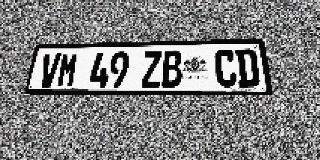4: (89, 52, 111, 87)
9: (108, 52, 130, 87)
B: (162, 50, 182, 87)
C: (214, 49, 238, 87)
D: (235, 49, 260, 87)
M: (56, 53, 79, 88)
V: (38, 53, 61, 88)
Z: (141, 51, 162, 87)
